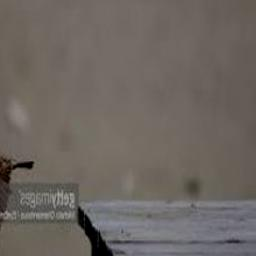Sparrow: (0, 157, 35, 236)
